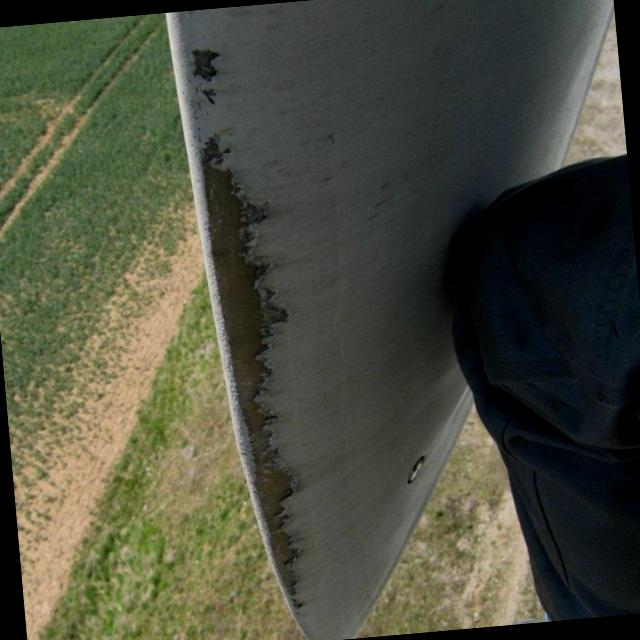corrosion: (188, 136, 287, 447), (246, 443, 302, 611), (190, 44, 223, 106)
